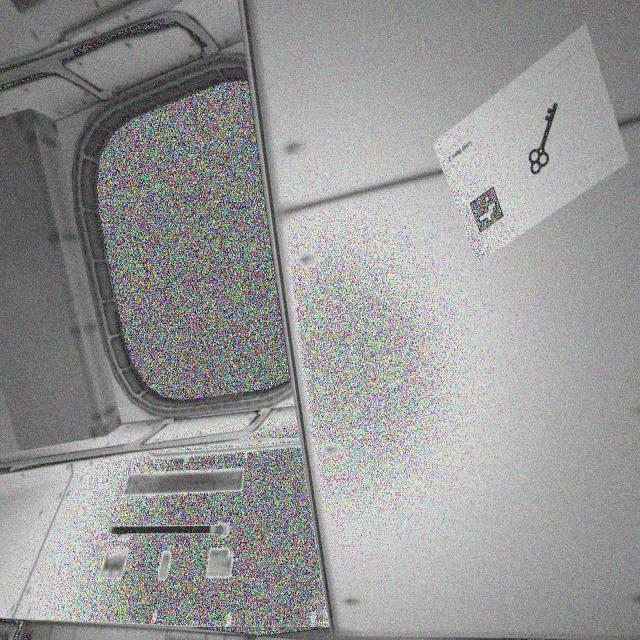key: (519, 95, 567, 185)
